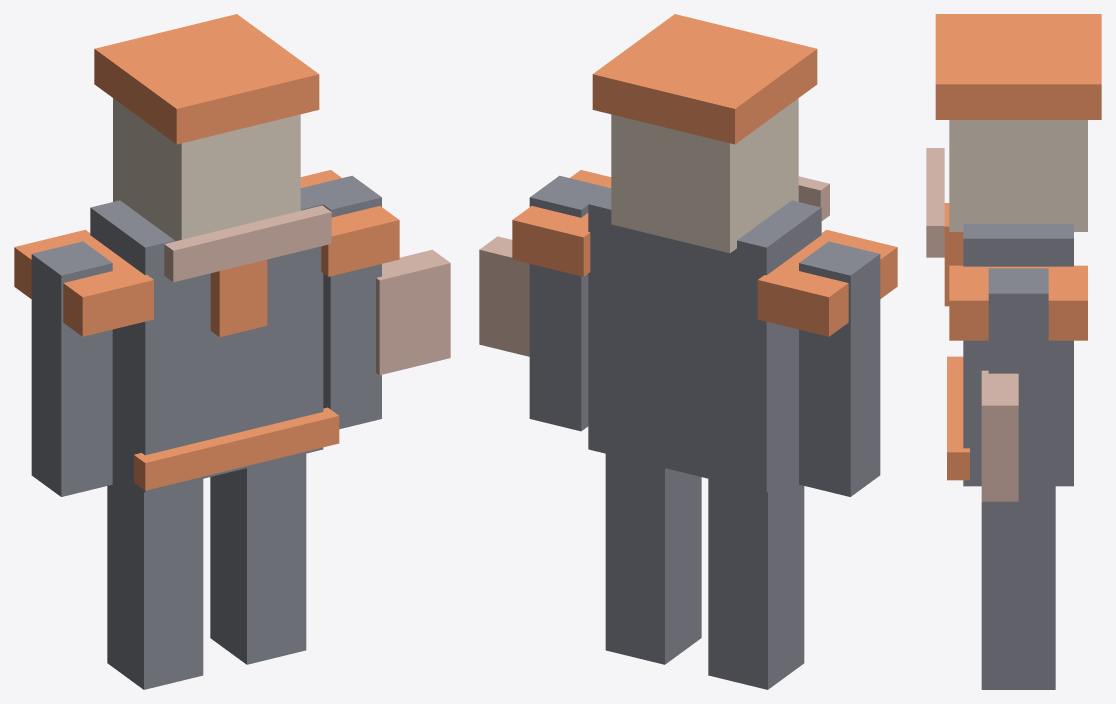
File: 19_cassian_mossguard_scout_under_troop.glb
3 views of the same model, side by side, from view 1: azimuth 30°, elevation 25°; view 2: azimuth 150°, elevation 25°; view 3: azimuth 270°, elevation 25° (orthographic).
Visible parts, largest first — view 1: Cassian Mossguard, Scout under Troop; view 2: Cassian Mossguard, Scout under Troop; view 3: Cassian Mossguard, Scout under Troop.
Part boxes in pixels (left/top/right/bottom): Cassian Mossguard, Scout under Troop: left=14, top=14, right=450, bottom=689; Cassian Mossguard, Scout under Troop: left=479, top=14, right=897, bottom=689; Cassian Mossguard, Scout under Troop: left=926, top=14, right=1101, bottom=689.
Size of the model in its own units: 1.07 by 1.58 by 0.4177.
